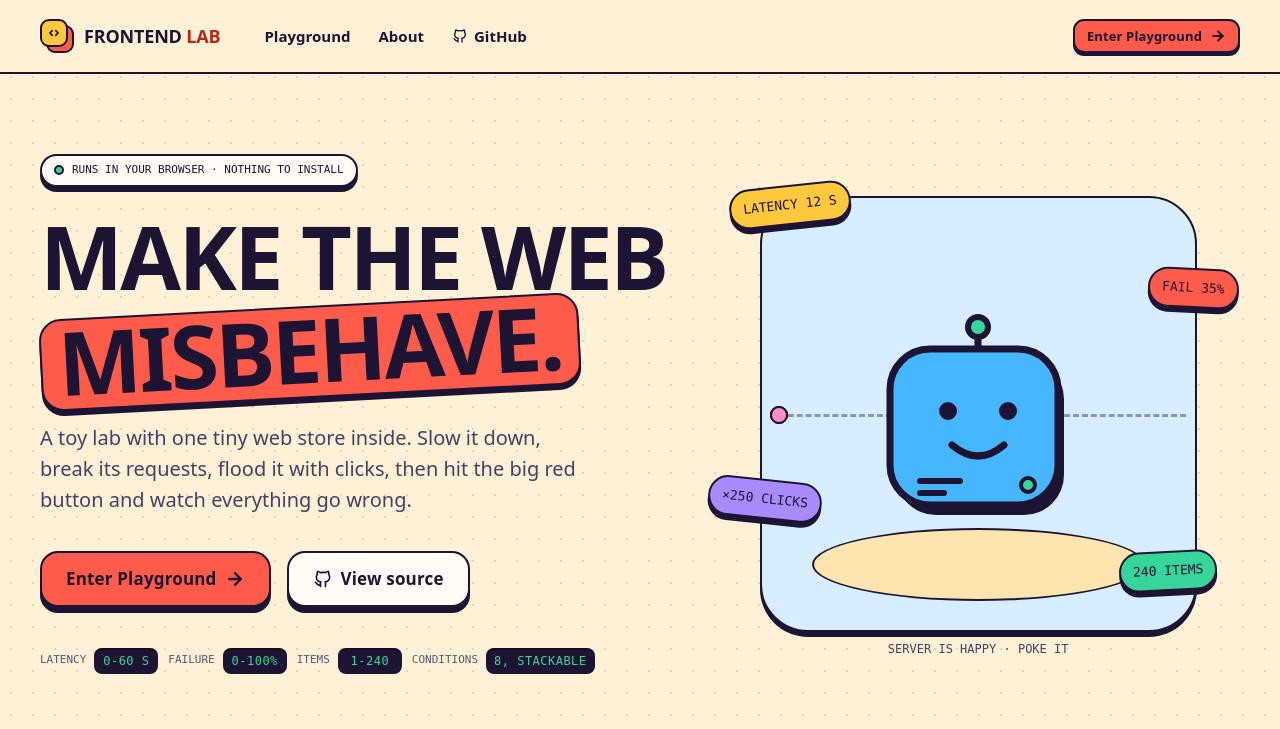
it: routing › navigates from landing to about through the main nav
Click the link "About".
click(401, 36)  # box left=378, top=26, right=424, bottom=46
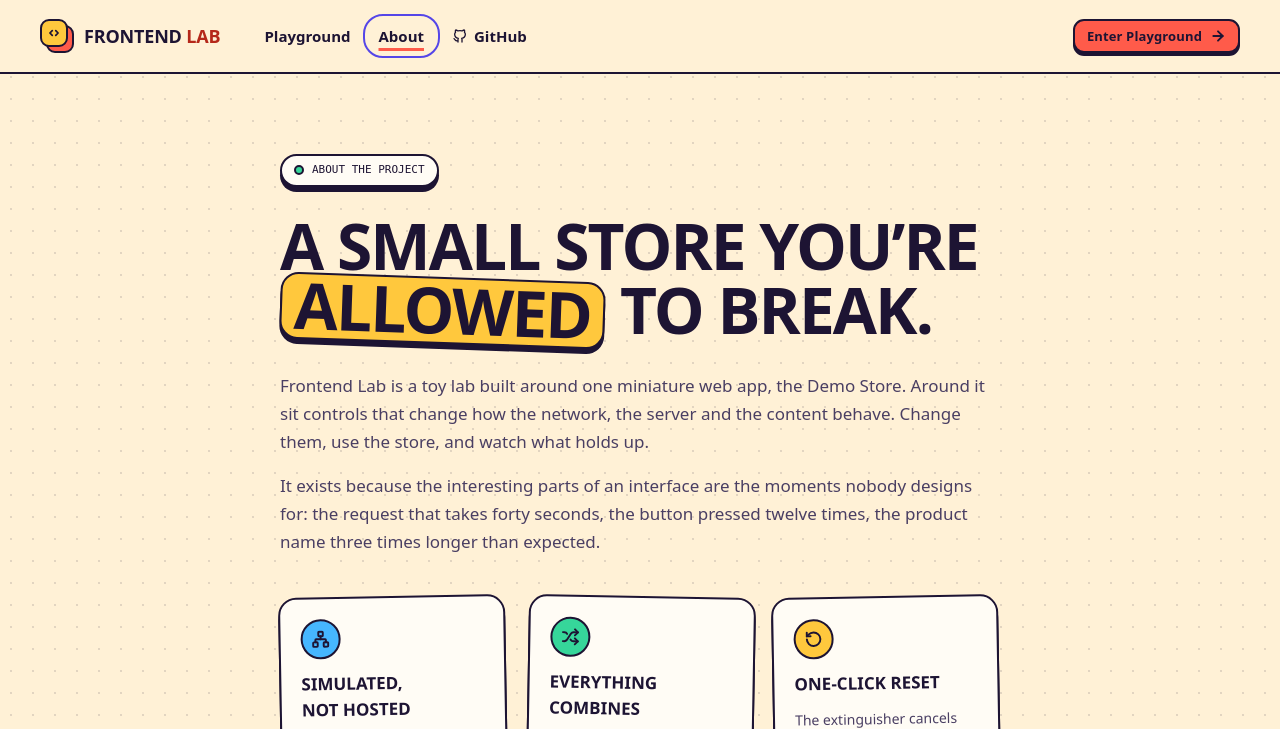
Now the heading "A small store you’re allowed to break." is shown, box left=280, top=214, right=1000, bottom=344
